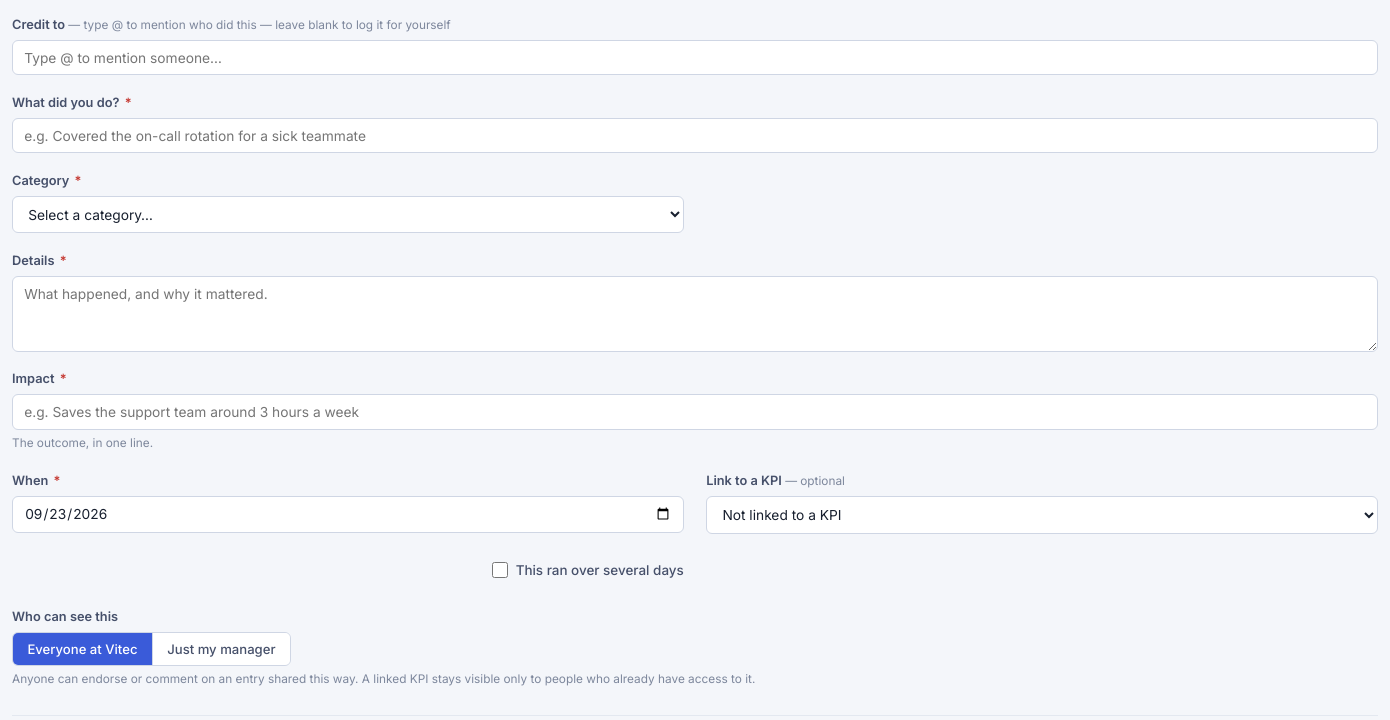
Test: ProactiveWorkForm — multi-day toggle › reveals Last day once ticked and requires it
This screenshot has width=1390, height=720.
Note: Unlike Field's label, the multi-day checkbox itself does have a proper htmlFor/id pair.
Click the checkbox labelled "This ran over several days" at (500, 570), box [492, 562, 508, 578]
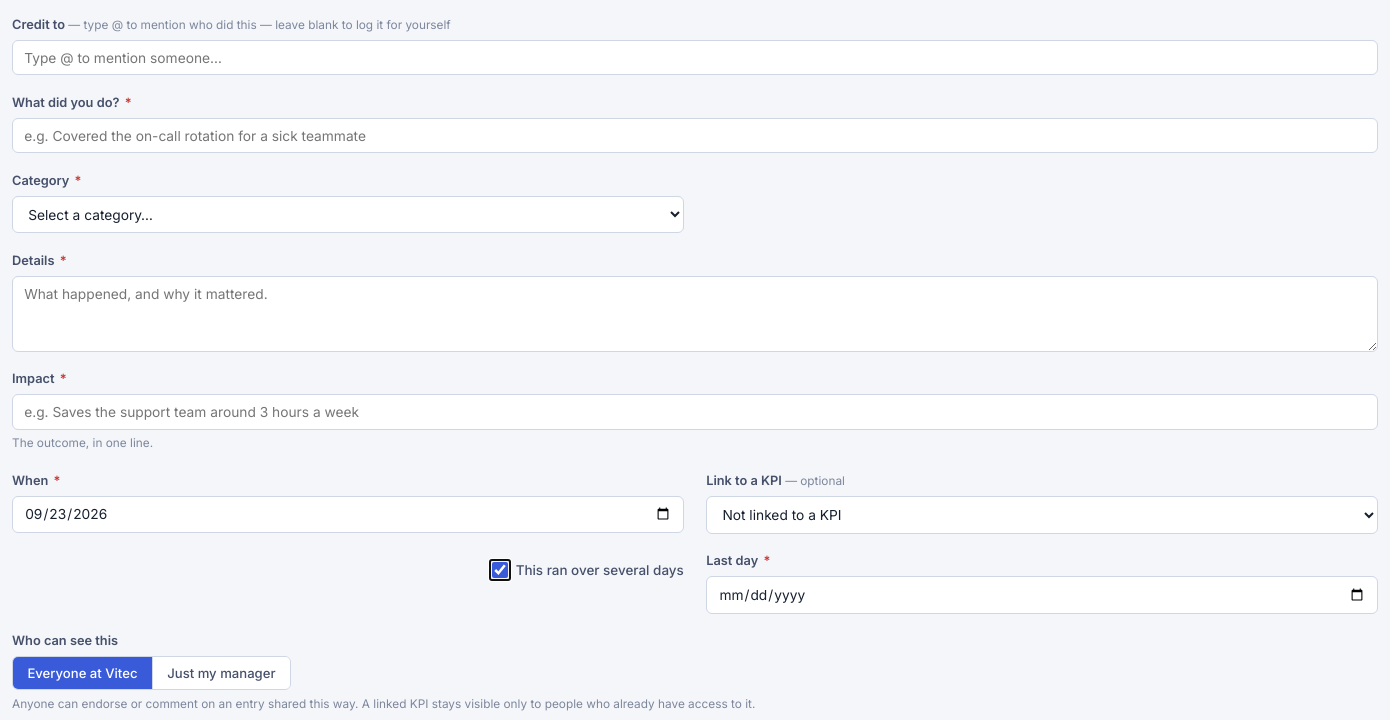
expect the date field below "Last day" is shown: met, box [706, 576, 1378, 614]
Type "Multi-day effort" into the field with placeholder "e.g. Covered the on-call rotation for a sick teammate" at (695, 136), box [12, 118, 1378, 154]
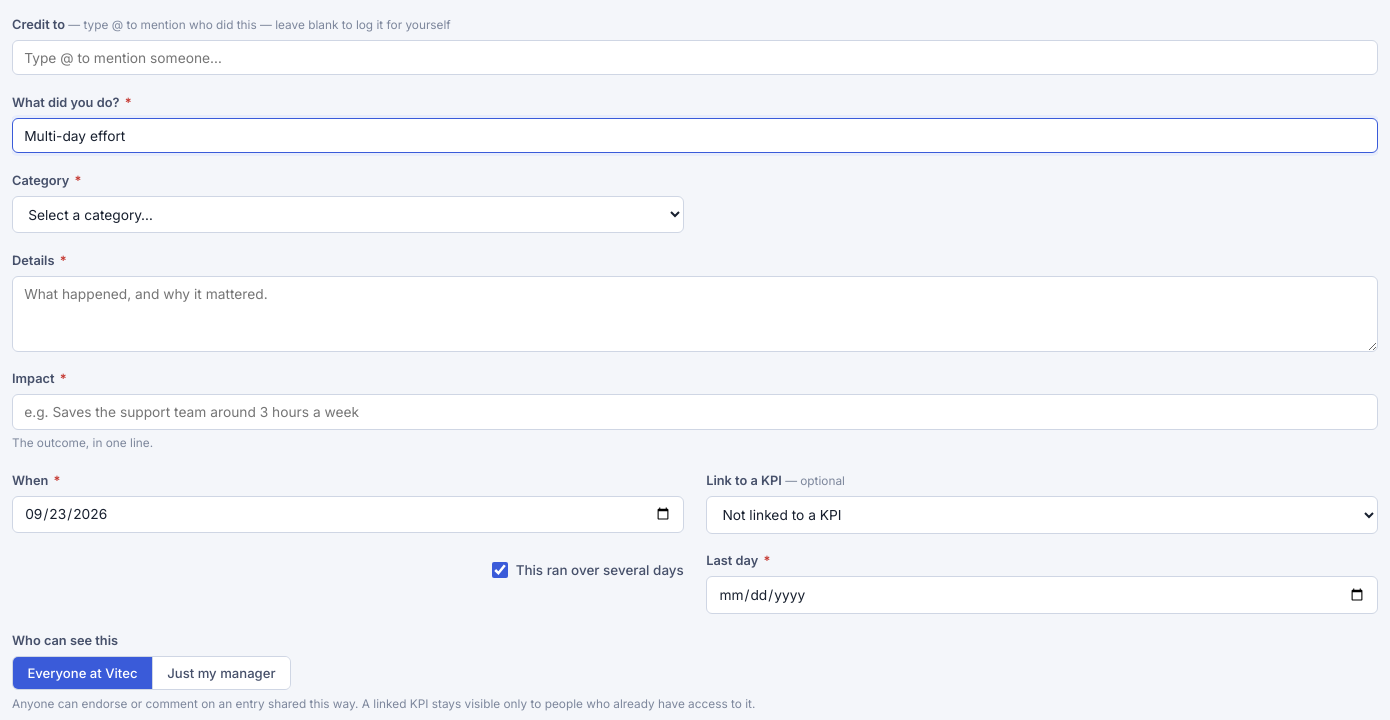
Select "Extra Hours" in the dropdown below "Category" at (348, 215), box [12, 196, 684, 233]
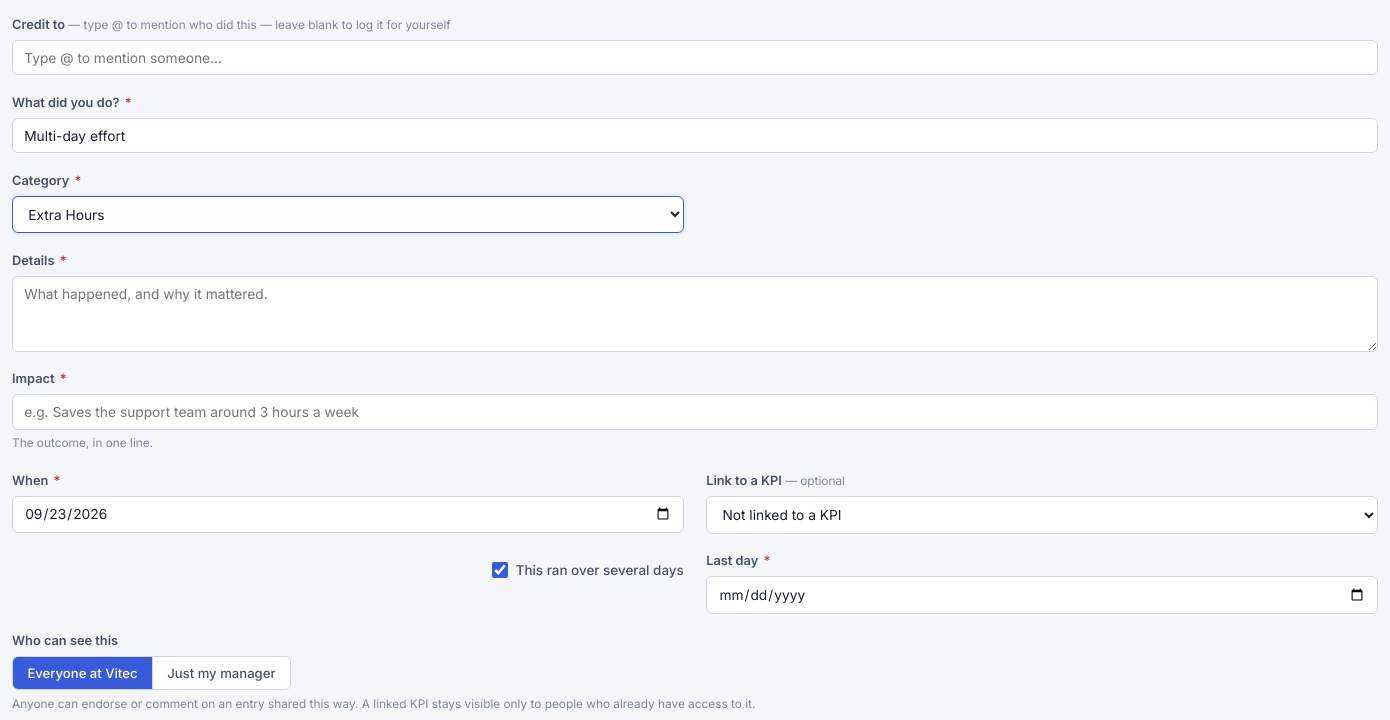
Type "Worked the weekend release" into the text box with placeholder "What happened, and why it mattered." at (695, 314), box [12, 276, 1378, 352]
(page scrolled)
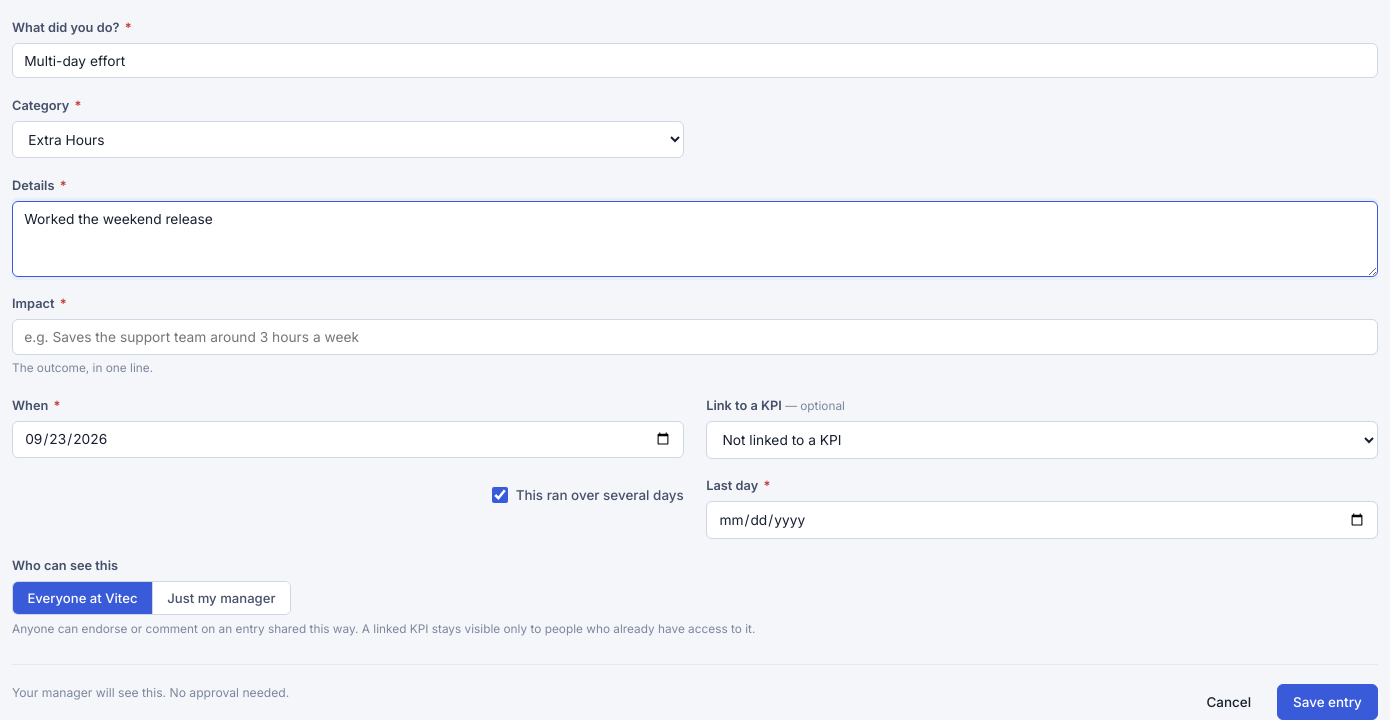
Click the button "Save entry" at (1327, 702), box [1277, 684, 1378, 719]
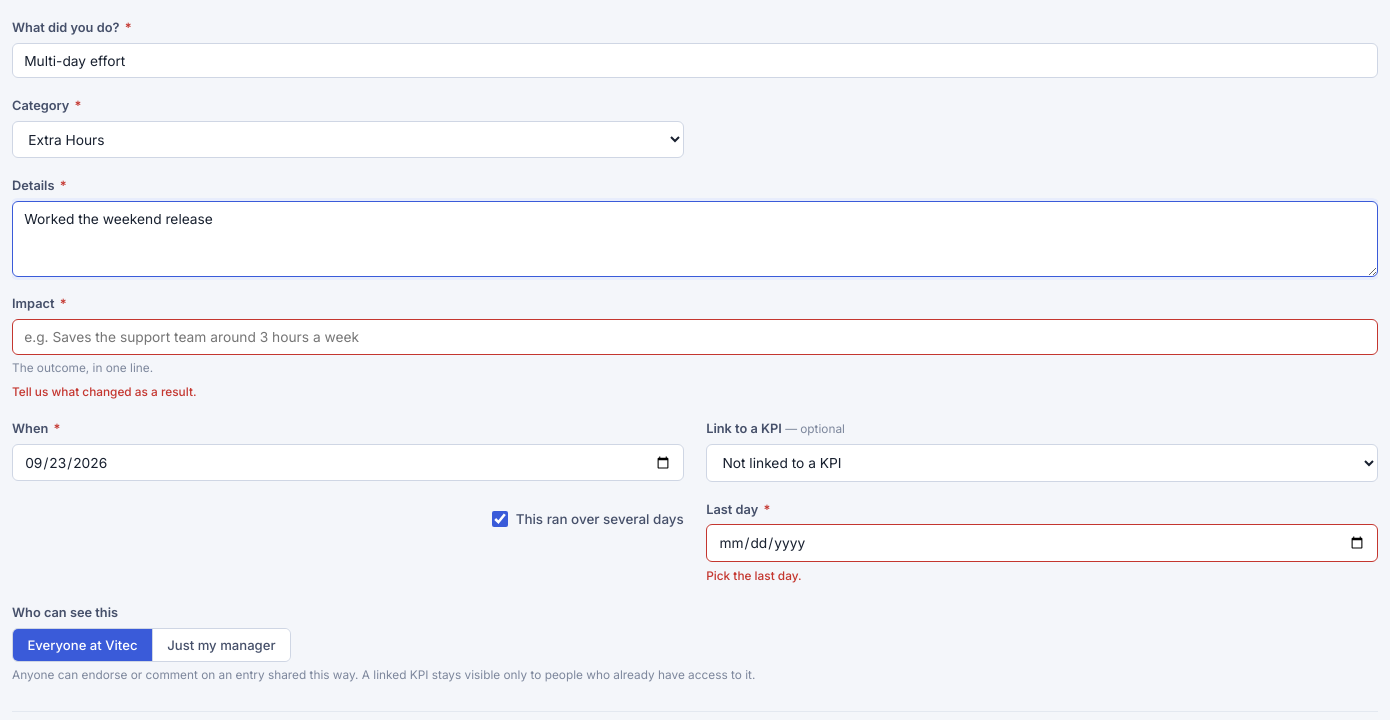
expect the text "Pick the last day." is shown: met, box [706, 569, 802, 583]
